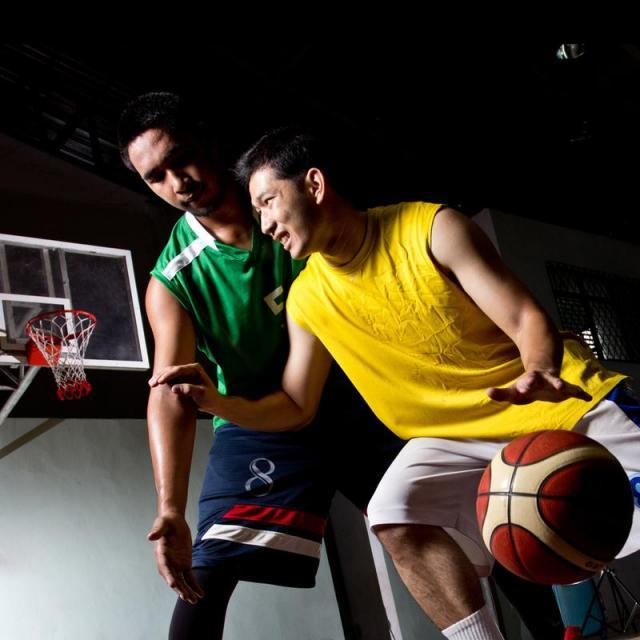rim: (484, 427, 632, 590)
